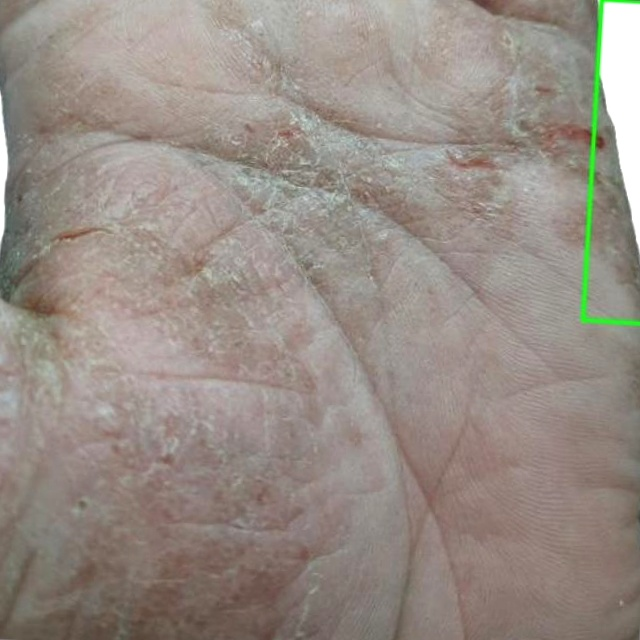Contact Dermatitis: (581, 0, 639, 324)
